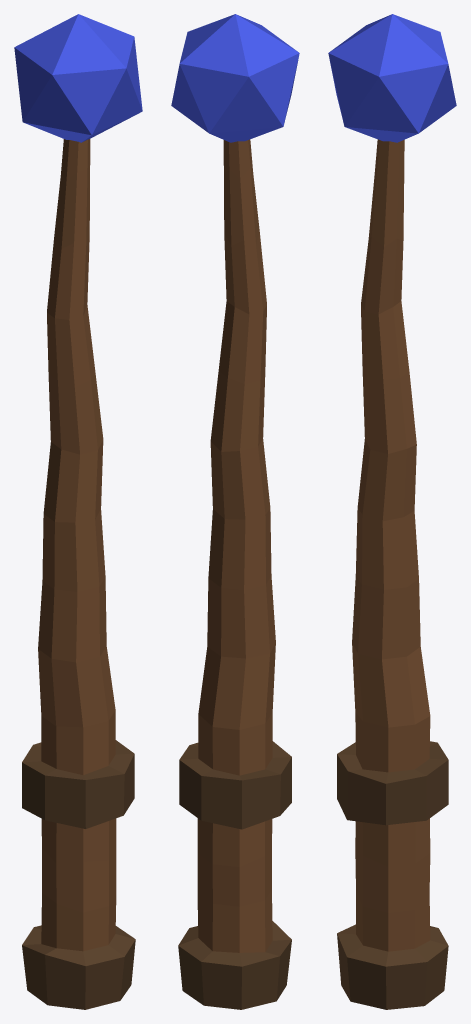
File: Wand.fbx
3 views of the same model, side by side, from view 1: azimuth 30°, elevation 25°; view 2: azimuth 210°, elevation 25°; view 3: azimuth 330°, elevation 25° (orthographic).
Visible parts, largest first — view 1: Icosphere; view 2: Icosphere; view 3: Icosphere.
Part boxes in pixels (left/top/right/bottom): Icosphere: left=14, top=14, right=142, bottom=1009; Icosphere: left=171, top=14, right=299, bottom=1009; Icosphere: left=328, top=14, right=456, bottom=1009.
Size of the model in its own units: 27.78 by 231 by 26.42.
